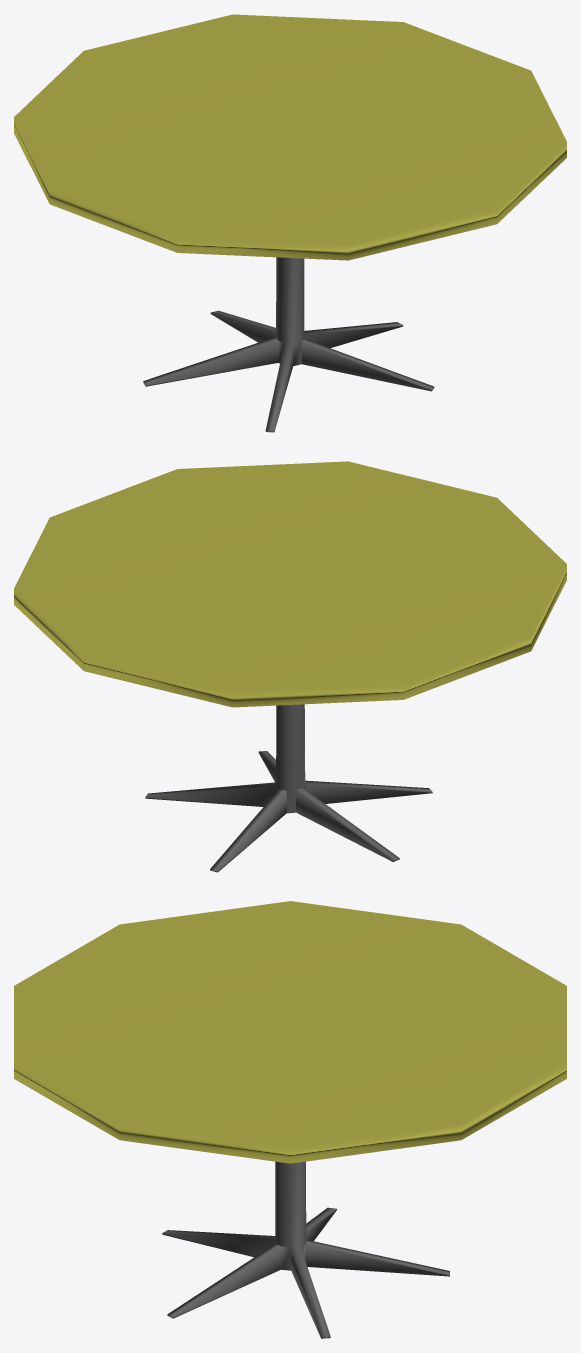
Rendered from Round Table.fbx.
3 renders of one model, top to bottom at view 1: azimuth 30°, elevation 25°; view 2: azimuth 150°, elevation 25°; view 3: azimuth 270°, elevation 25°, orthographic. The views are drawn at different scales.
Parts seen in each view (by area): view 1: pCylinder1; view 2: pCylinder1; view 3: pCylinder1.
Boxes of the visible parts, x1,y1,x2,y2 form: pCylinder1: [14, 14, 566, 432]; pCylinder1: [14, 461, 566, 872]; pCylinder1: [14, 901, 566, 1338].
Size of the model in its own units: 229 by 109 by 218.
